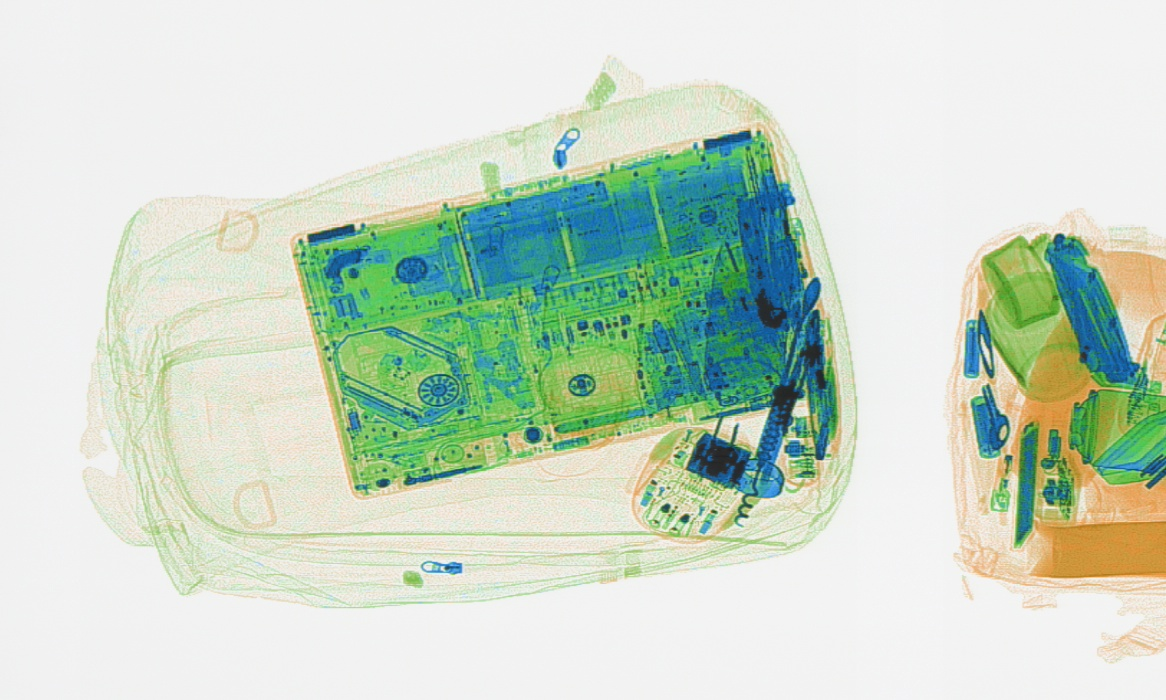knife: (1044, 231, 1138, 385)
lighter: (786, 211, 827, 327), (981, 400, 1023, 513)
